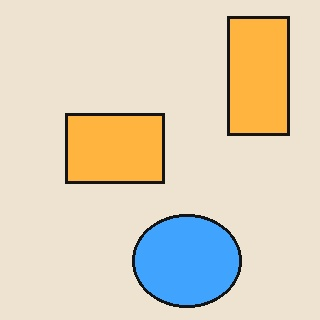circle_target: (133, 214, 242, 307)
square_target: (227, 17, 290, 136), (66, 114, 164, 184)
